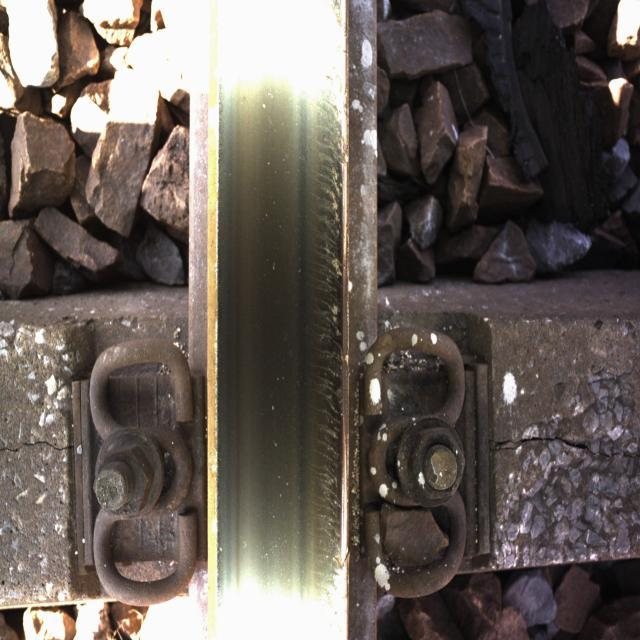scar: (244, 72, 342, 594)
